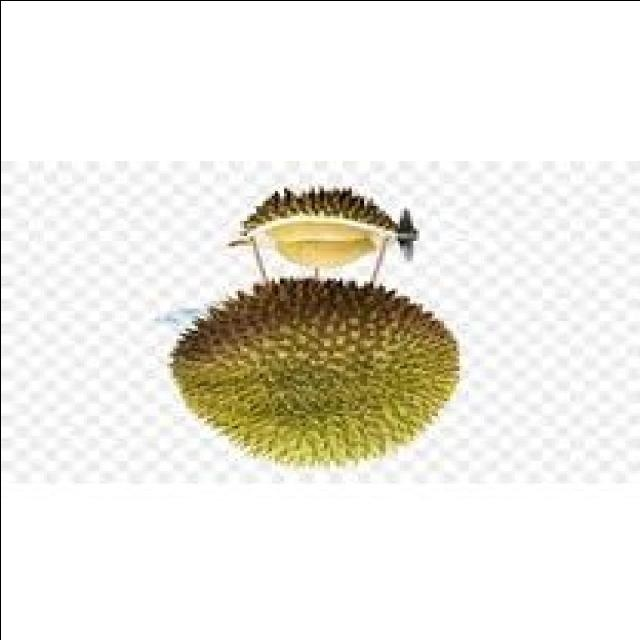agrume: (154, 257, 474, 485)
